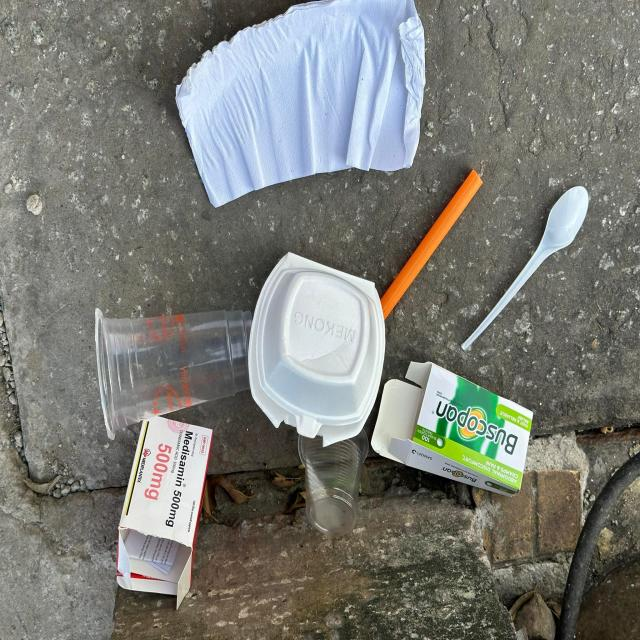cardboard box: (372, 359, 534, 498), (115, 414, 213, 612)
drinking straw: (380, 170, 483, 320)
foam box: (250, 253, 386, 446)
napkin: (177, 0, 426, 207)
plastic glass: (94, 308, 254, 441), (298, 420, 370, 537)
plastic utensil: (462, 185, 589, 352)
